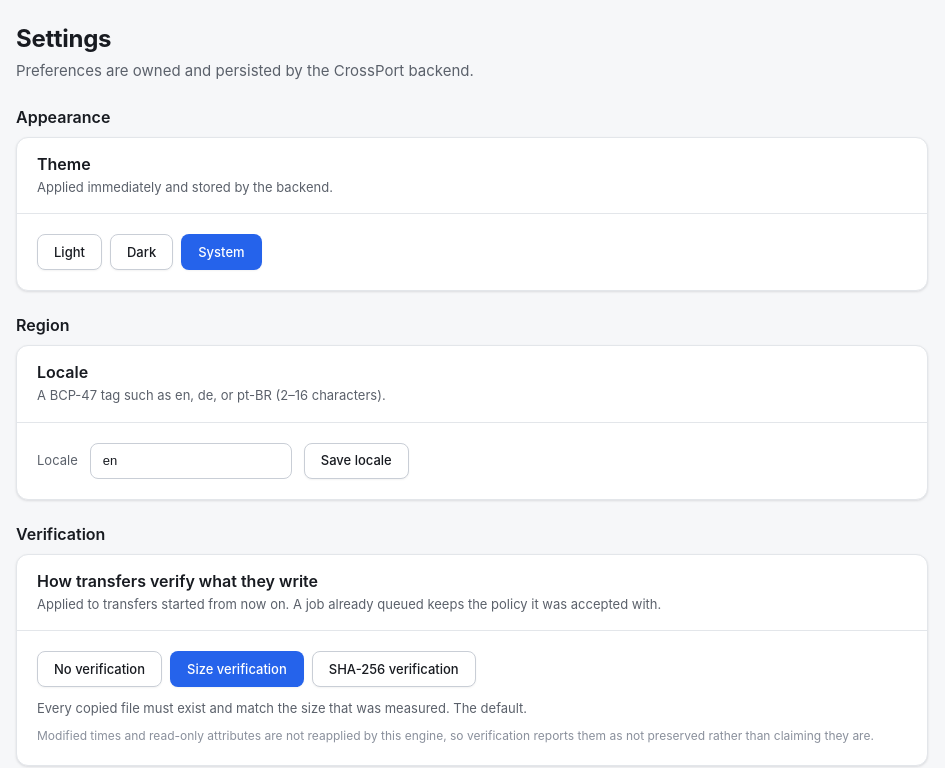
it: SettingsPage › persists a theme change through the store
Click the button "Dark" at (142, 252), box 110,234 -> 173,270
(page scrolled)
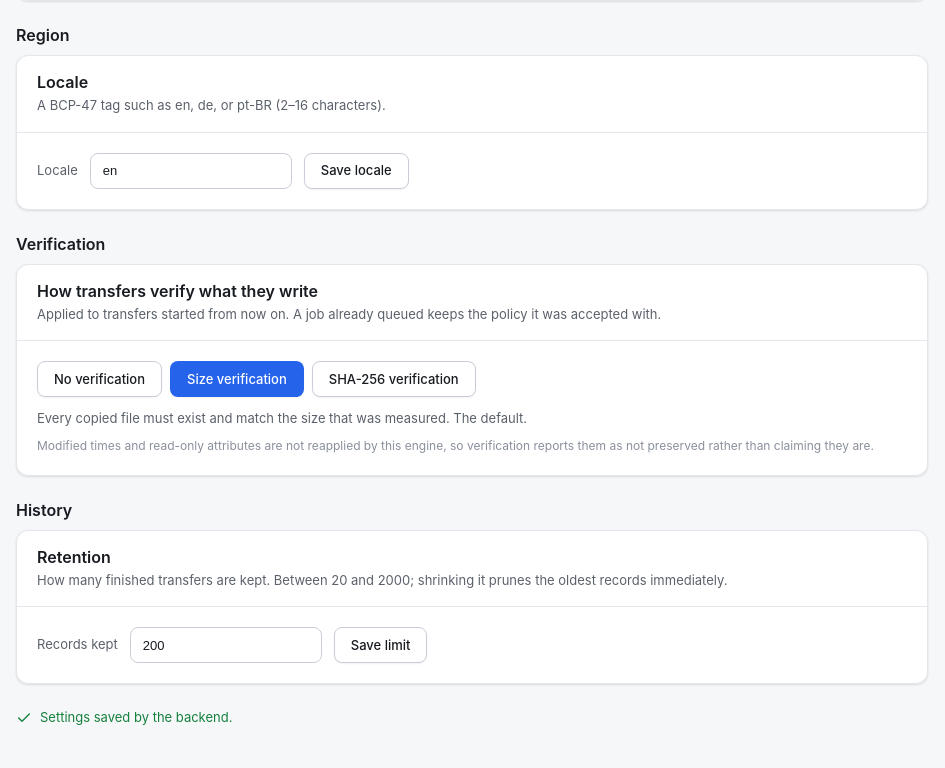
Expected: the text "Settings saved by the backend." is shown, 16,709 -> 232,726
